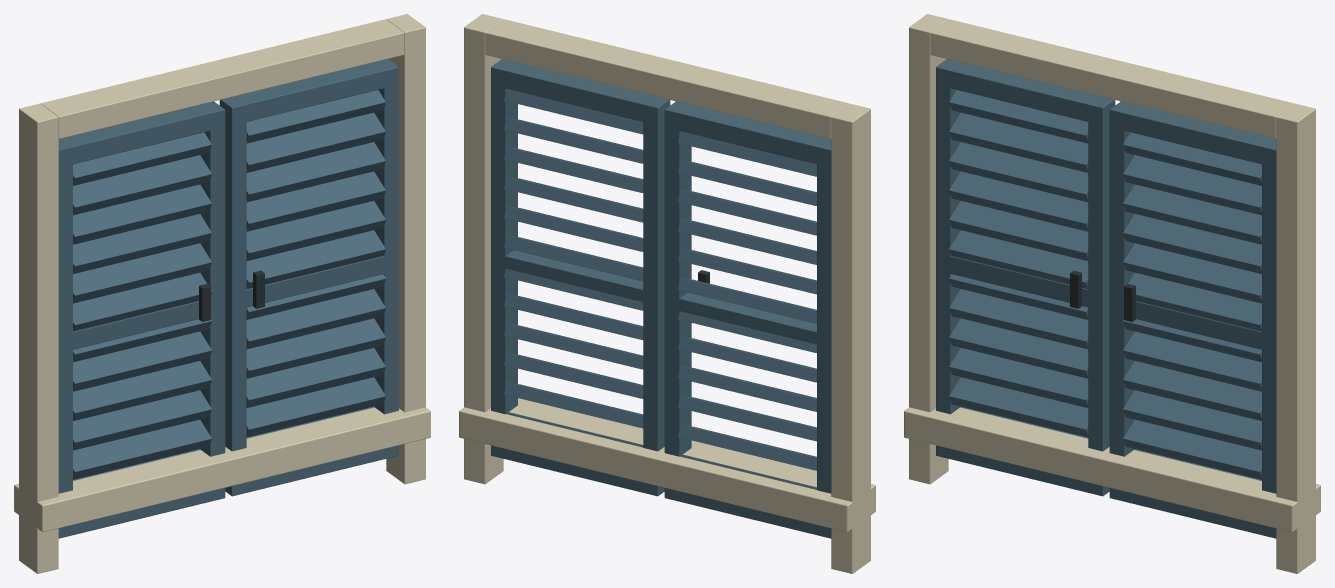
The model's file is source-edit.glb.
3 renders of one model, left to right at view 1: azimuth 30°, elevation 25°; view 2: azimuth 150°, elevation 25°; view 3: azimuth 330°, elevation 25°, orthographic.
Visible parts, largest first — view 1: FRAME_Jamb, FRAME_Sill, FRAME_Head, FRAME_Jamb.001, Right_Stile.001, Left_Stile.001, Right_Stile, Left_Stile, Left_Rail.002, Right_Rail.002, Right_Louver_3, Right_Louver_2 (+24 smaller); view 2: FRAME_Sill, FRAME_Jamb, FRAME_Head, FRAME_Jamb.001, Left_Stile.001, Right_Stile.001, Right_Stile, Left_Stile, Right_Rail.002, Left_Rail.002, Right_Rail.001, Left_Rail.001 (+24 smaller); view 3: FRAME_Jamb.001, FRAME_Sill, FRAME_Head, FRAME_Jamb, Left_Stile.001, Right_Stile.001, Left_Stile, Right_Stile, Left_Rail.002, Right_Rail.002, Left_Louver_3, Left_Louver_2 (+24 smaller).
Boxes of the visible parts, bbox=[...] form: FRAME_Jamb: bbox=[19, 103, 58, 573]; FRAME_Sill: bbox=[14, 407, 430, 532]; FRAME_Head: bbox=[40, 19, 404, 138]; FRAME_Jamb.001: bbox=[386, 14, 425, 484]; Right_Stile.001: bbox=[219, 96, 246, 495]; Left_Stile.001: bbox=[200, 101, 225, 501]; Right_Stile: bbox=[374, 59, 398, 458]; Left_Stile: bbox=[58, 138, 72, 538]; Left_Rail.002: bbox=[58, 105, 224, 167]; Right_Rail.002: bbox=[220, 62, 395, 124]; Right_Louver_3: bbox=[246, 318, 385, 378]; Right_Louver_2: bbox=[246, 348, 385, 407]; FRAME_Sill: bbox=[459, 398, 875, 532]; FRAME_Jamb: bbox=[831, 103, 870, 573]; FRAME_Head: bbox=[485, 19, 849, 138]; FRAME_Jamb.001: bbox=[464, 14, 503, 484]; Left_Stile.001: bbox=[664, 101, 691, 501]; Right_Stile.001: bbox=[643, 96, 670, 495]; Right_Stile: bbox=[491, 59, 517, 458]; Left_Stile: bbox=[817, 138, 831, 538]; Right_Rail.002: bbox=[491, 62, 669, 124]; Left_Rail.002: bbox=[665, 105, 831, 167]; Right_Rail.001: bbox=[491, 250, 657, 310]; Left_Rail.001: bbox=[665, 292, 831, 352]; FRAME_Jamb.001: bbox=[1276, 103, 1315, 573]; FRAME_Sill: bbox=[904, 407, 1320, 532]; FRAME_Head: bbox=[930, 19, 1294, 138]; FRAME_Jamb: bbox=[909, 14, 948, 484]; Left_Stile.001: bbox=[1088, 96, 1115, 495]; Right_Stile.001: bbox=[1109, 101, 1134, 501]; Left_Stile: bbox=[936, 59, 960, 458]; Right_Stile: bbox=[1262, 138, 1276, 538]; Left_Rail.002: bbox=[936, 62, 1114, 124]; Right_Rail.002: bbox=[1110, 105, 1276, 167]; Left_Louver_3: bbox=[949, 318, 1088, 378]; Left_Louver_2: bbox=[949, 348, 1088, 407].
Bounding box in the file's own units: 1.8 × 2 × 0.23.
